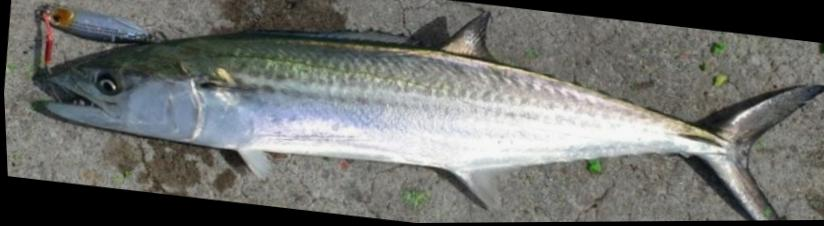fish: (27, 15, 824, 222)
